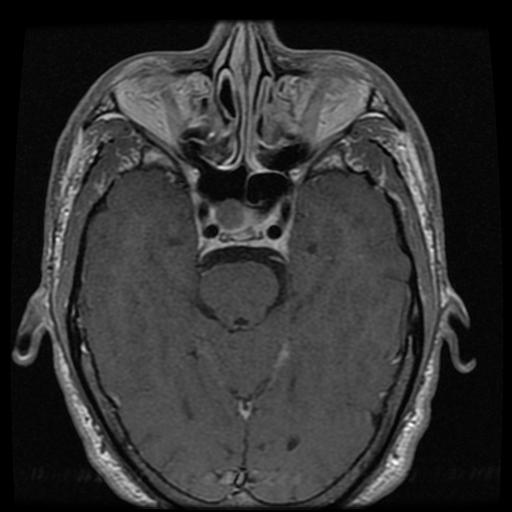Pituirity_tumour: (213, 199, 254, 231)
